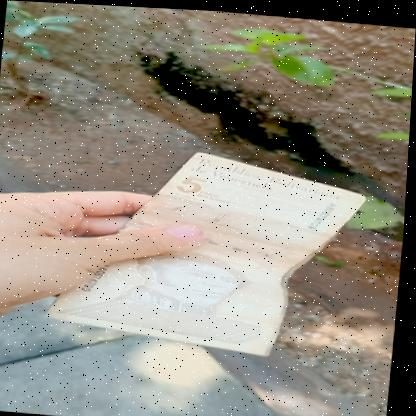five-front-vef: (45, 138, 372, 361)
